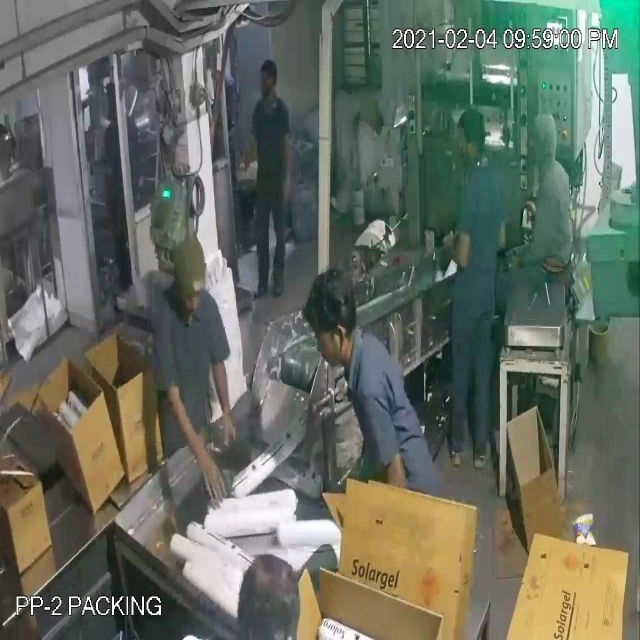Sin_guantes: (153, 353, 230, 516), (213, 351, 249, 448), (275, 120, 297, 209)
